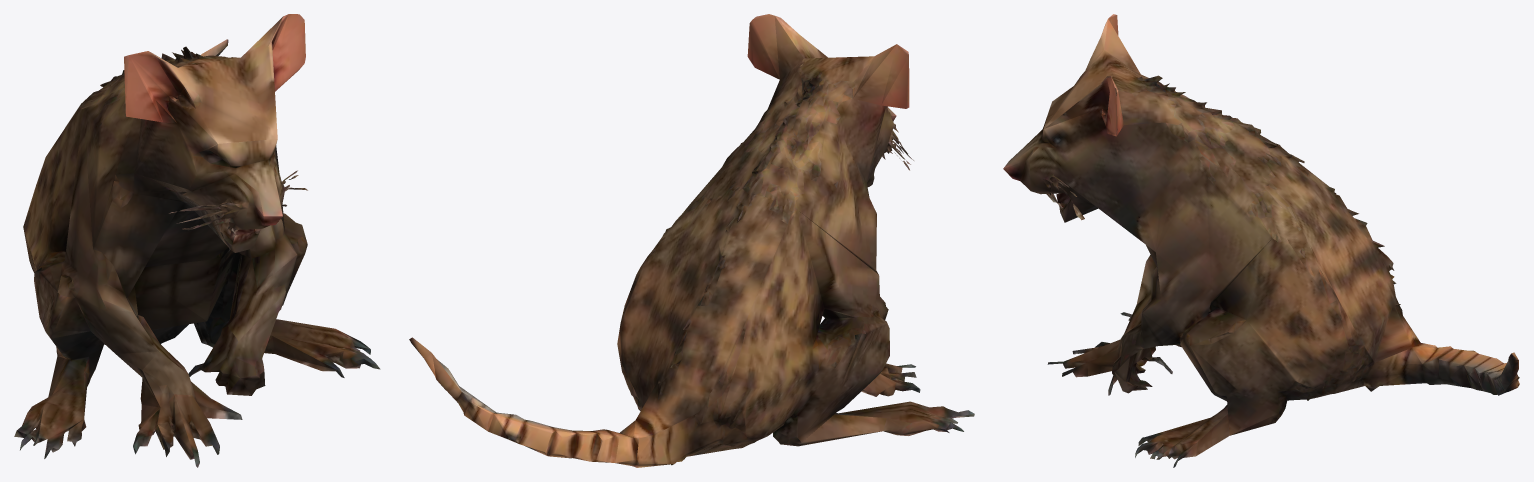
Rendered from monster_91.glb.
3 renders of one model, left to right at view 1: azimuth 30°, elevation 25°; view 2: azimuth 150°, elevation 25°; view 3: azimuth 270°, elevation 25°, orthographic. The views are drawn at different scales.
Parts seen in each view (by area): view 1: Rat_Overlord_1102155447_texture; view 2: Rat_Overlord_1102155447_texture; view 3: Rat_Overlord_1102155447_texture.
Part boxes in pixels (bbox=[...]): Rat_Overlord_1102155447_texture: bbox=[14, 14, 380, 467]; Rat_Overlord_1102155447_texture: bbox=[409, 14, 974, 467]; Rat_Overlord_1102155447_texture: bbox=[1003, 14, 1519, 467].
Bounding box in the file's own units: 1.52 × 1.38 × 1.89.
1 material, 1 textured.
